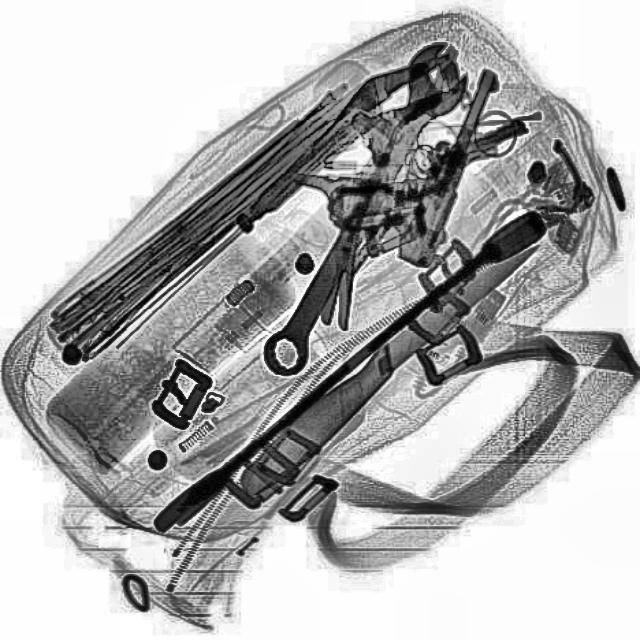Gun: (316, 39, 499, 268)
Knife: (228, 226, 548, 504)
Wrench: (240, 32, 482, 386)
